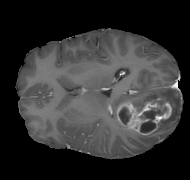Edema: (111, 89, 178, 137)
EnhancingTumors: (115, 95, 172, 134)
Necrosis: (118, 97, 172, 131)
